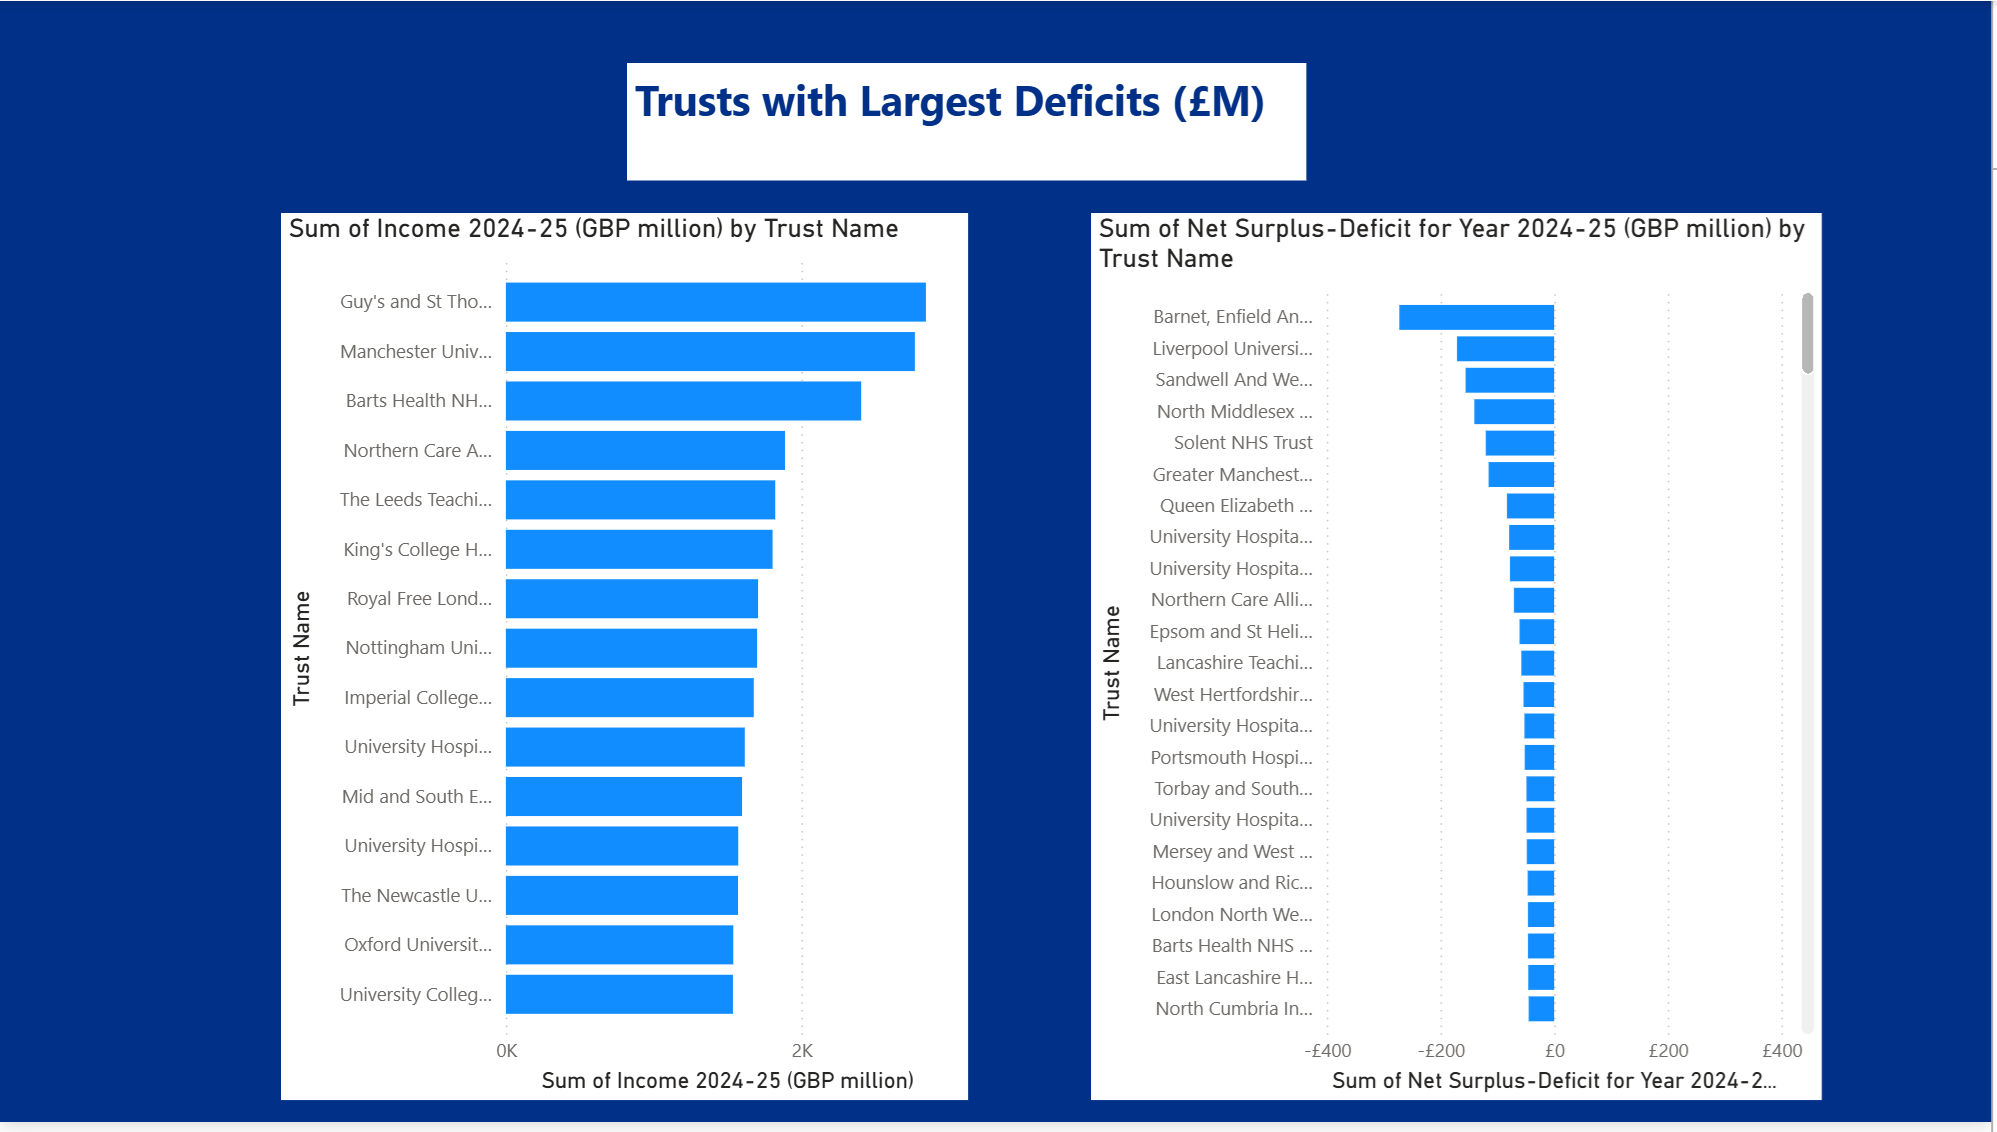

Layout of this report page (visuals, bound fields, positions):
{"tool":"powerbi","page":{"name":"Rankings","canvas":[1280,720],"ordinal":1},"visuals":[{"type":"barChart","fields":{"Category":["Summary by Trust.Trust Name"],"Y":["Sum(Summary by Trust.Income 2024-25 (GBP million))"]},"box":[180.6,136.6,441.3,570.1],"z":0},{"type":"barChart","fields":{"Category":["Summary by Trust.Trust Name"],"Y":["Sum(Summary by Trust.Net Surplus-Deficit for Year 2024-25 (GBP million))"]},"box":[702,136.6,469.6,570.1],"z":1000},{"type":"textbox","box":[403.6,39.3,436.6,75.4],"z":2000}]}

Visuals, with their boxes in screenshot pixels (x1, y1, x2, y2), scaled from the page's 1280x720 canvas onto the 1997x1132 screenshot:
barChart - Summary by Trust.Trust Name x Sum(Summary by Trust.Income 2024-25 (GBP million)): [282, 215, 970, 1111]
barChart - Summary by Trust.Trust Name x Sum(Summary by Trust.Net Surplus-Deficit for Year 2024-25 (GBP million)): [1095, 215, 1828, 1111]
textbox: [630, 62, 1311, 180]
